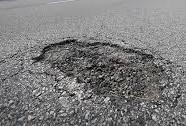crack: (0, 52, 78, 102)
pothole: (35, 39, 169, 108)
